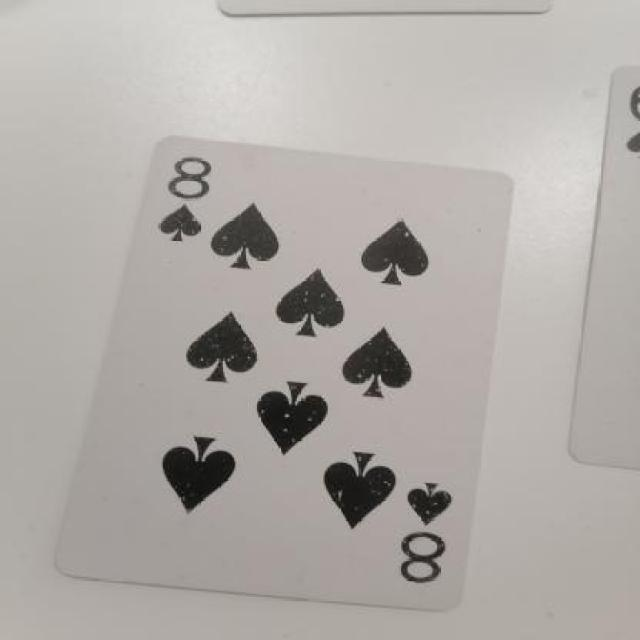8S: (391, 467, 478, 588), (148, 148, 242, 243)
